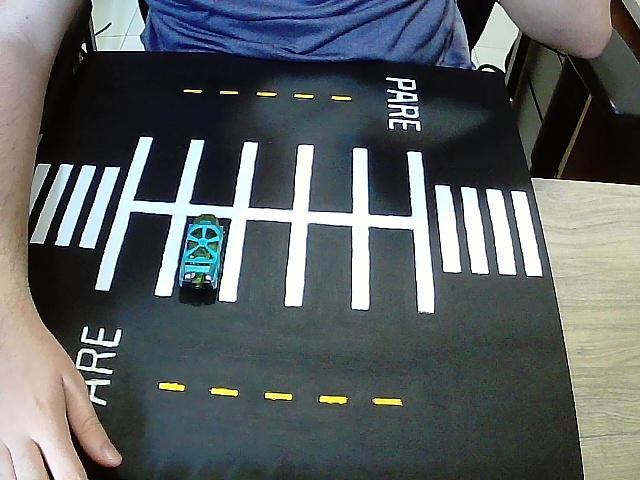Carro: (179, 215, 224, 289)
